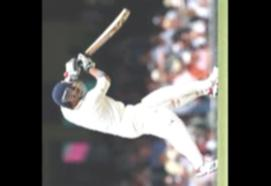batsman: (44, 6, 220, 186)
